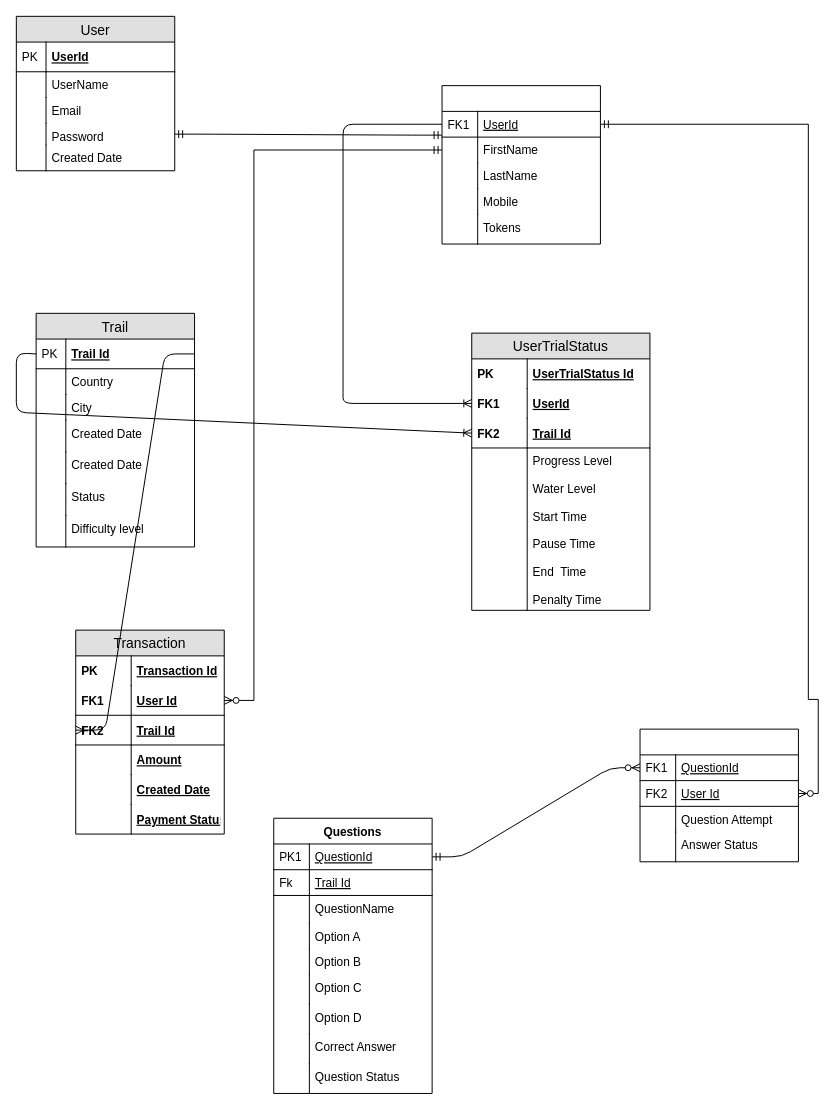
Image size: 835x1110. Some labels were removed from this diagram. The box of each missing label's shape, as (x1, y1, x2, y2) in pixels:
QuestionsStatusByUser: (639, 728, 798, 862)
UserProfile: (441, 85, 600, 244)
